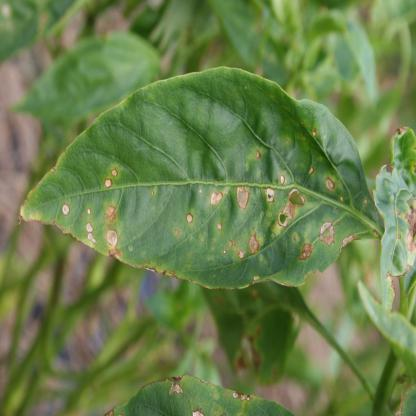Tomato leaf bacterial spot: (18, 68, 380, 293)
